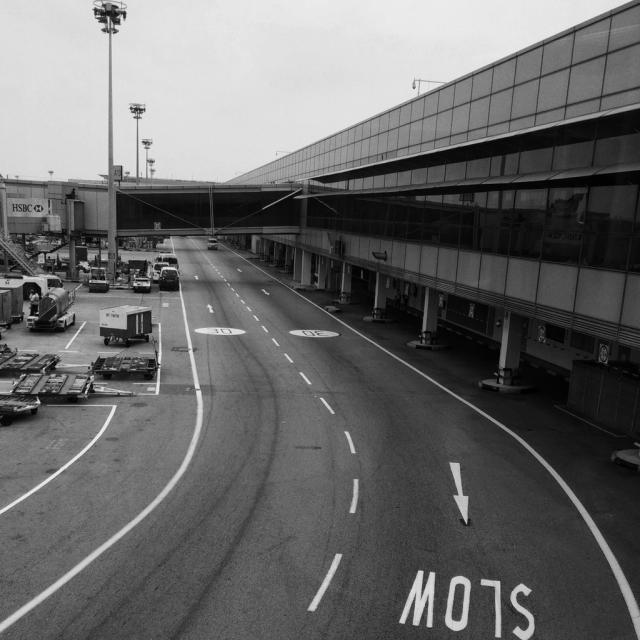car: (6, 263, 73, 332), (160, 264, 180, 292), (206, 236, 216, 249)
